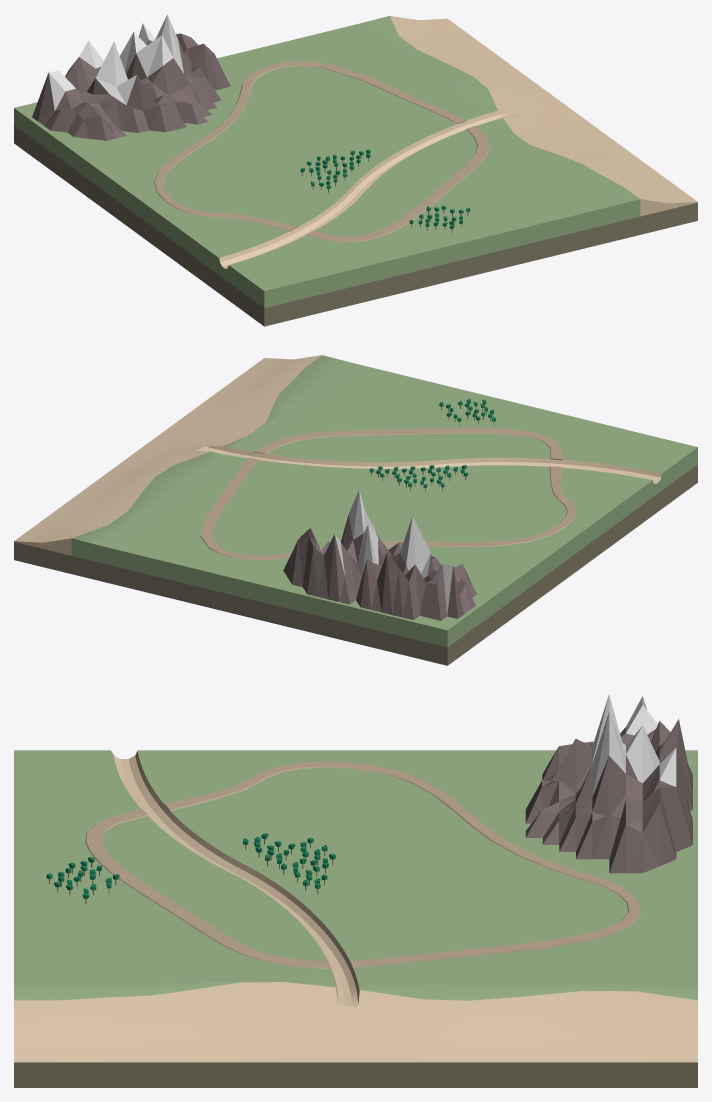
File: Map_BadRoad_V1.fbx
The picture shows the model from 3 angles, top to bottom: view 1: azimuth 30°, elevation 25°; view 2: azimuth 150°, elevation 25°; view 3: azimuth 270°, elevation 25°; orthographic projection. The views are drawn at different scales.
Visible parts, largest first — view 1: Terrain, BadRoad_2, BadRoad_1; view 2: Terrain, BadRoad_2, BadRoad_1; view 3: Terrain, BadRoad_2, BadRoad_1.
Boxes of the visible parts, box(x1,y1,x2,y2) form: Terrain: box(14, 14, 697, 326); BadRoad_2: box(154, 61, 466, 231); BadRoad_1: box(306, 125, 489, 242); Terrain: box(14, 355, 697, 665); BadRoad_2: box(200, 458, 576, 560); BadRoad_1: box(254, 427, 562, 460); Terrain: box(14, 694, 697, 1087); BadRoad_2: box(163, 761, 640, 967); BadRoad_1: box(85, 809, 331, 968).
Size of the model in its own units: 23.74 by 6.45 by 23.74.
